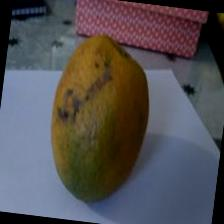Orange Rotten: (38, 20, 166, 214)
